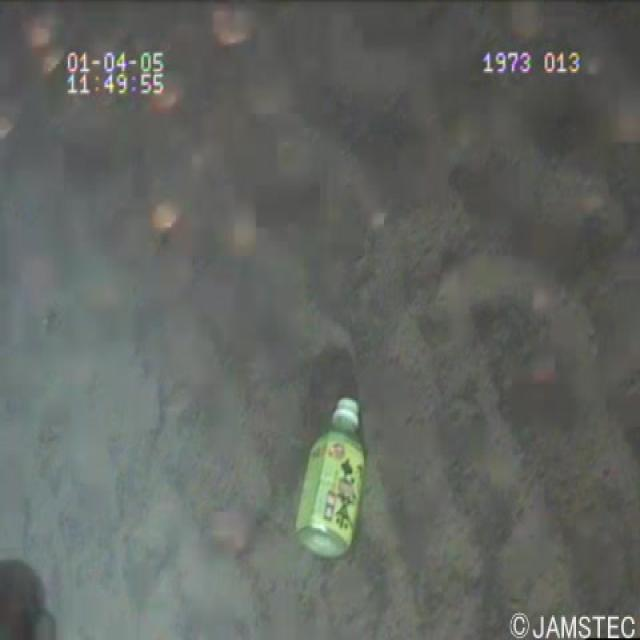plastic: (288, 386, 376, 580)
